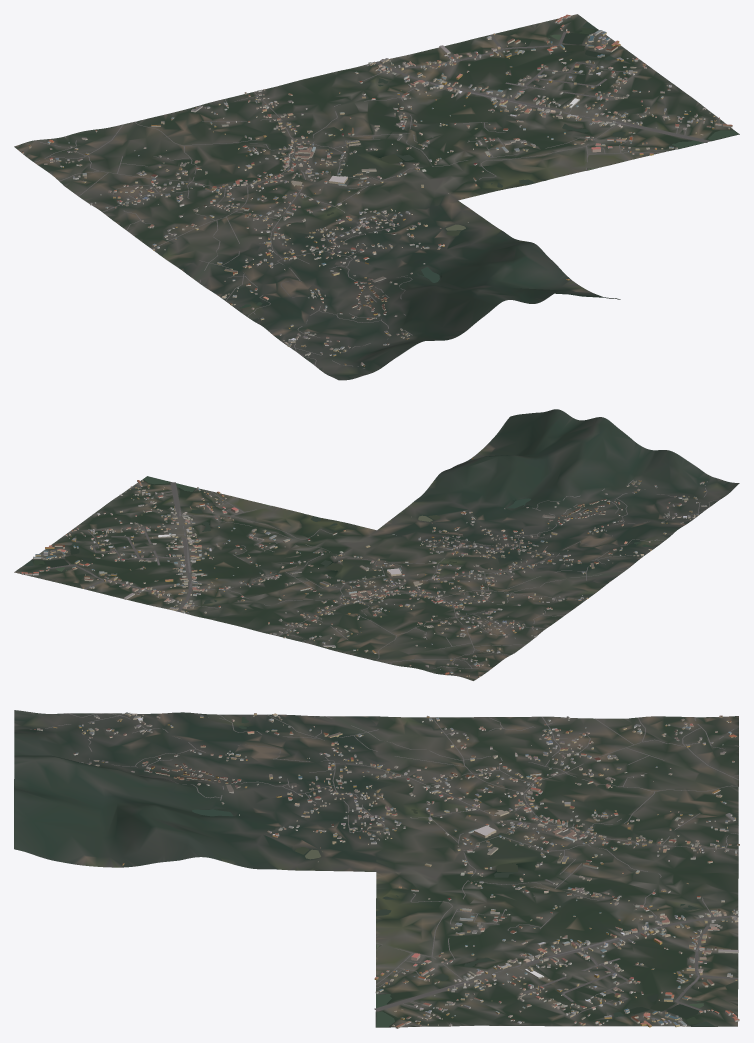
The picture shows the model from 3 angles, top to bottom: view 1: azimuth 30°, elevation 25°; view 2: azimuth 150°, elevation 25°; view 3: azimuth 270°, elevation 25°; orthographic projection. The views are drawn at different scales.
Parts seen in each view (by area): view 1: ground, buildings, roads, water; view 2: ground, buildings, roads, water; view 3: ground, buildings, roads, water.
Part boxes in pixels (x1,y1,x2,y2): ground: (14,14,739,380); buildings: (22,14,732,366); roads: (34,31,708,368); water: (239,21,739,308); ground: (14,409,739,680); buildings: (21,458,707,676); roads: (48,480,721,674); water: (22,476,652,603); ground: (14,710,738,1027); buildings: (34,712,739,1028); roads: (30,713,738,1018); water: (192,717,715,1027).
Size of the model in its own units: 2817 by 238 by 2809.
